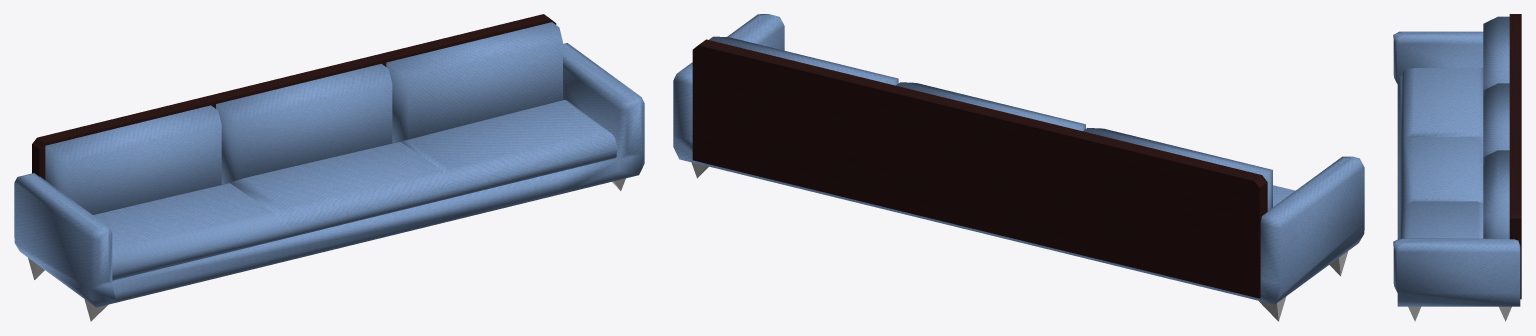
Rendered from Long_Sofa_D.FBX.
3 renders of one model, left to right at view 1: azimuth 30°, elevation 25°; view 2: azimuth 150°, elevation 25°; view 3: azimuth 270°, elevation 25°, orthographic. The views are drawn at different scales.
Parts seen in each view (by area): view 1: Long_Sofa; view 2: Long_Sofa; view 3: Long_Sofa.
Part boxes in pixels (bbox=[...]): Long_Sofa: bbox=[14, 14, 644, 321]; Long_Sofa: bbox=[673, 14, 1364, 321]; Long_Sofa: bbox=[1393, 14, 1521, 321].
Size of the model in its own units: 685 by 157 by 171.
